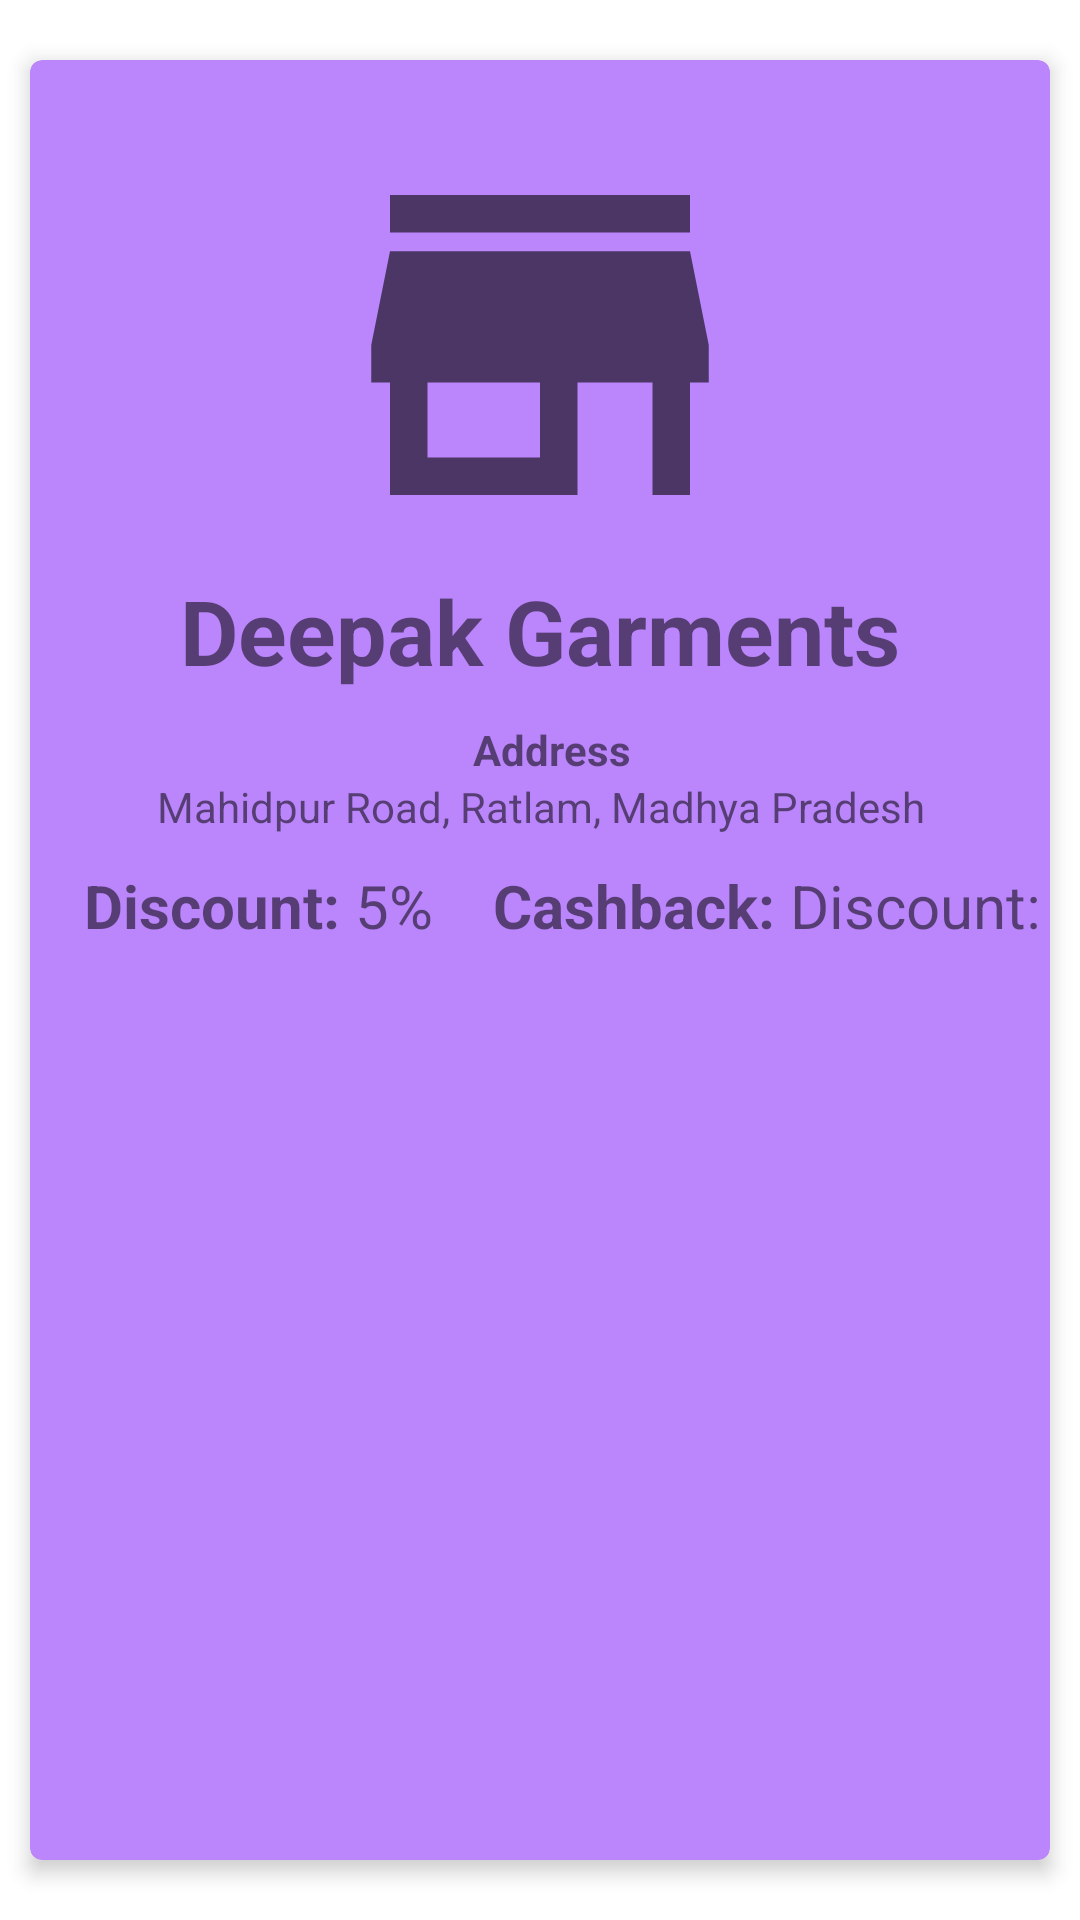

Where icons sit on this 1080 × 1920 app screen, as (x1, y1, x2, y2):
store mall directory: (371, 195, 709, 495)
